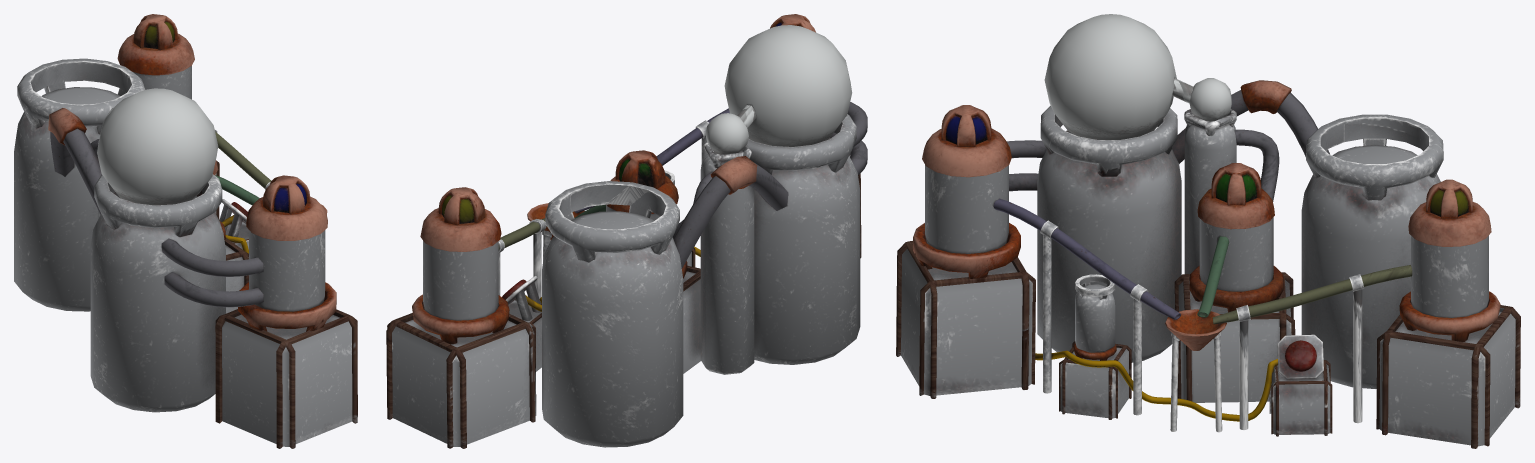
The model's file is AntidoteMachine.fbx.
The picture shows the model from 3 angles, left to right: view 1: azimuth 30°, elevation 25°; view 2: azimuth 150°, elevation 25°; view 3: azimuth 270°, elevation 25°; orthographic projection. The views are drawn at different scales.
Parts seen in each view (by area): view 1: AntidoteMachineUnwraped; view 2: AntidoteMachineUnwraped; view 3: AntidoteMachineUnwraped.
Part boxes in pixels (box(x1,y1,x2,y2)): AntidoteMachineUnwraped: box(14, 14, 357, 448); AntidoteMachineUnwraped: box(386, 14, 867, 448); AntidoteMachineUnwraped: box(896, 14, 1520, 448).
Bounding box in the file's own units: 64.01 × 66.58 × 118.
